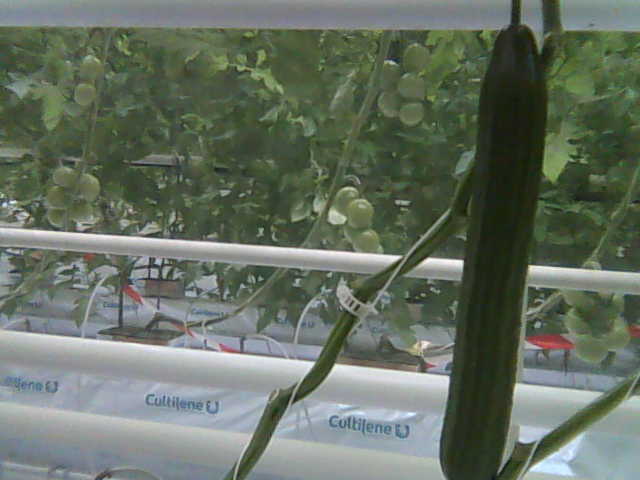concombre: (437, 21, 554, 480)
